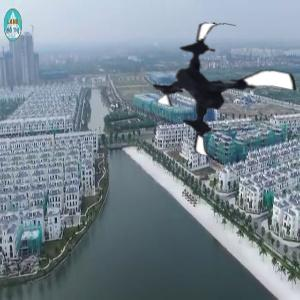drone: (150, 18, 299, 167)
